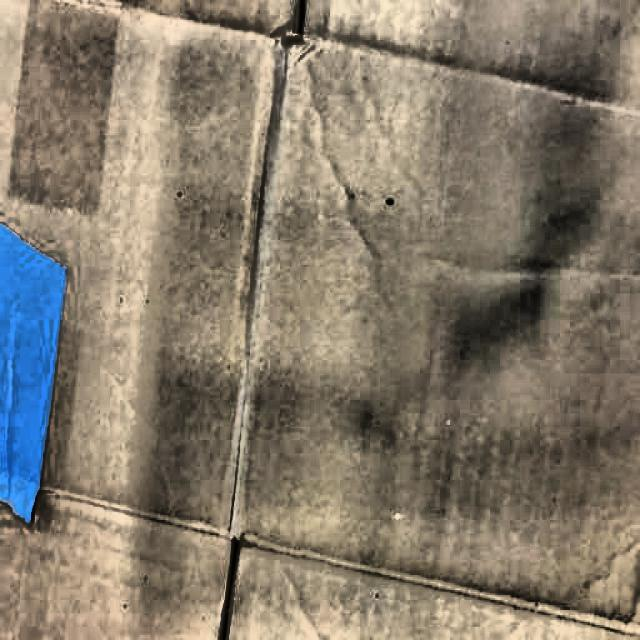cardboard: (57, 14, 634, 640)
